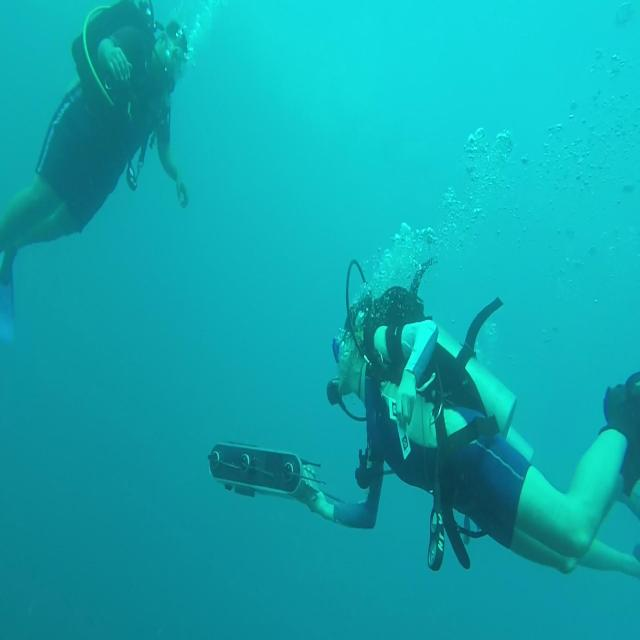human: (208, 256, 639, 580), (1, 0, 190, 342)
